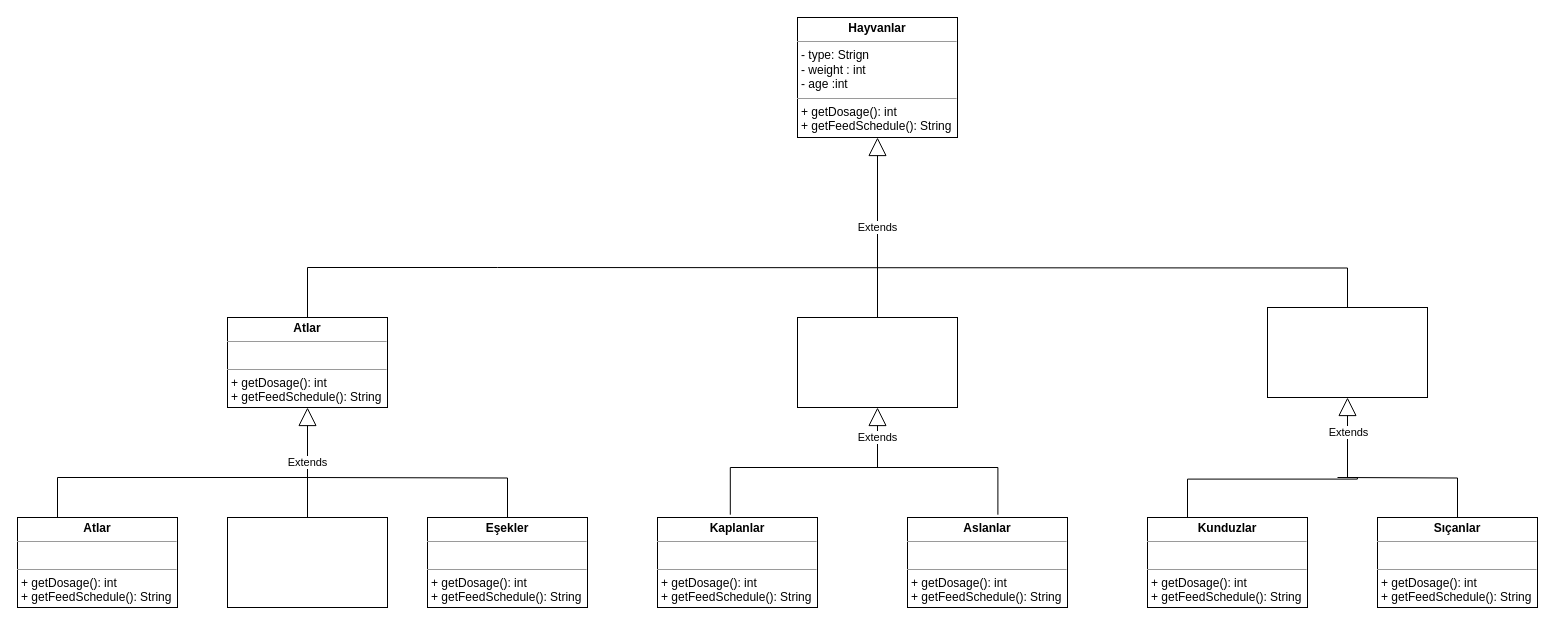
Some shapes in this 1555 by 625 pixel diagram are drawn without their labels. The centre of each missing label's shape, as x and y in pixels:
"Kedigiller + getDosage(): int + getFeedSchedule(): String" belongs at [877,362].
"Kemirgenler + getDosage(): int + getFeedSchedule(): String" belongs at [1347,352].
"Zebralar + getDosage(): int + getFeedSchedule(): String" belongs at [307,562].
